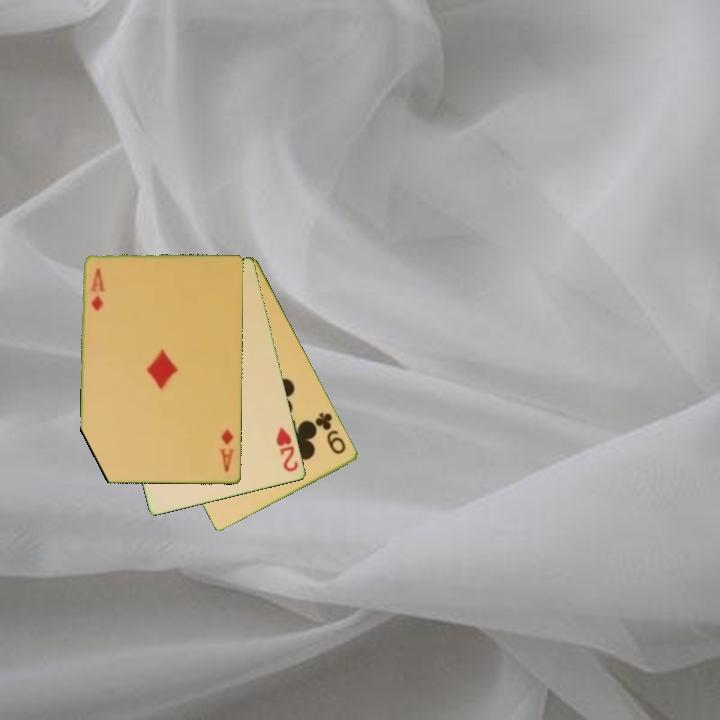2h: (273, 423, 302, 475)
9c: (312, 409, 349, 457)
Ad: (87, 265, 108, 314), (217, 425, 237, 475)
